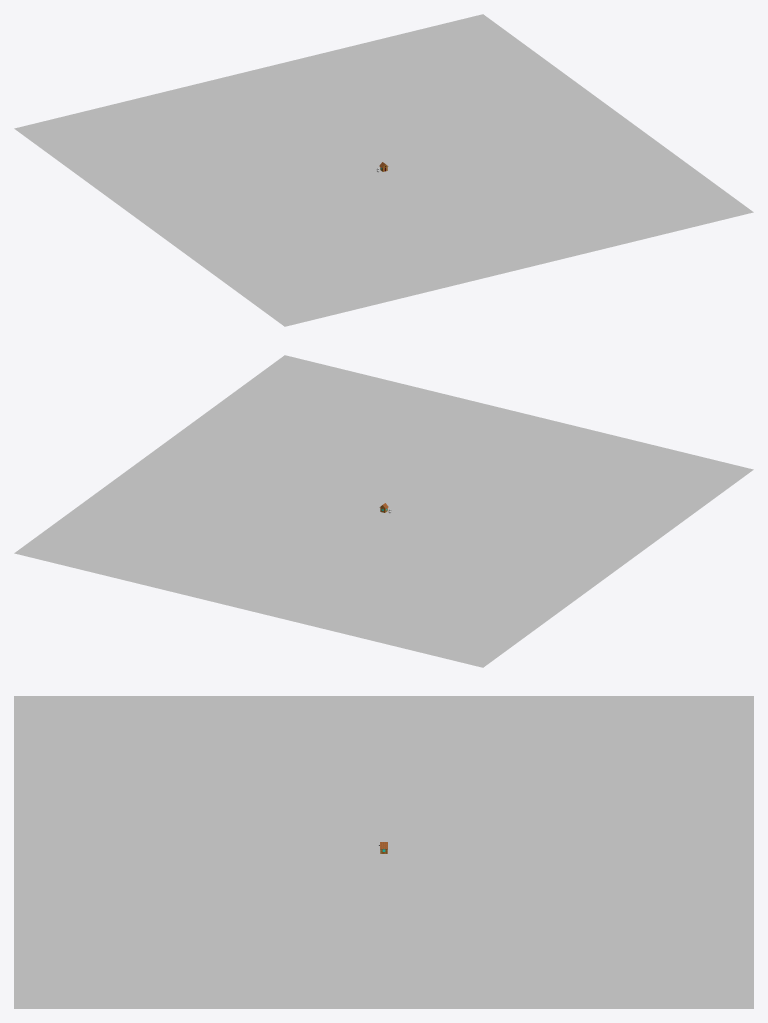
Rendered from house2.obj.
3 renders of one model, top to bottom at view 1: azimuth 30°, elevation 25°; view 2: azimuth 150°, elevation 25°; view 3: azimuth 270°, elevation 25°, orthographic. The views are drawn at different scales.
Visible parts, largest first — view 1: 平面; view 2: 平面; view 3: 平面.
Boxes of the visible parts, left/top/right/bottom form: 平面: left=14, top=14, right=753, bottom=326; 平面: left=14, top=355, right=753, bottom=667; 平面: left=14, top=696, right=753, bottom=1008.
Size of the model in its own units: 200 by 3.2 by 200.
15 materials, 7 textured.
